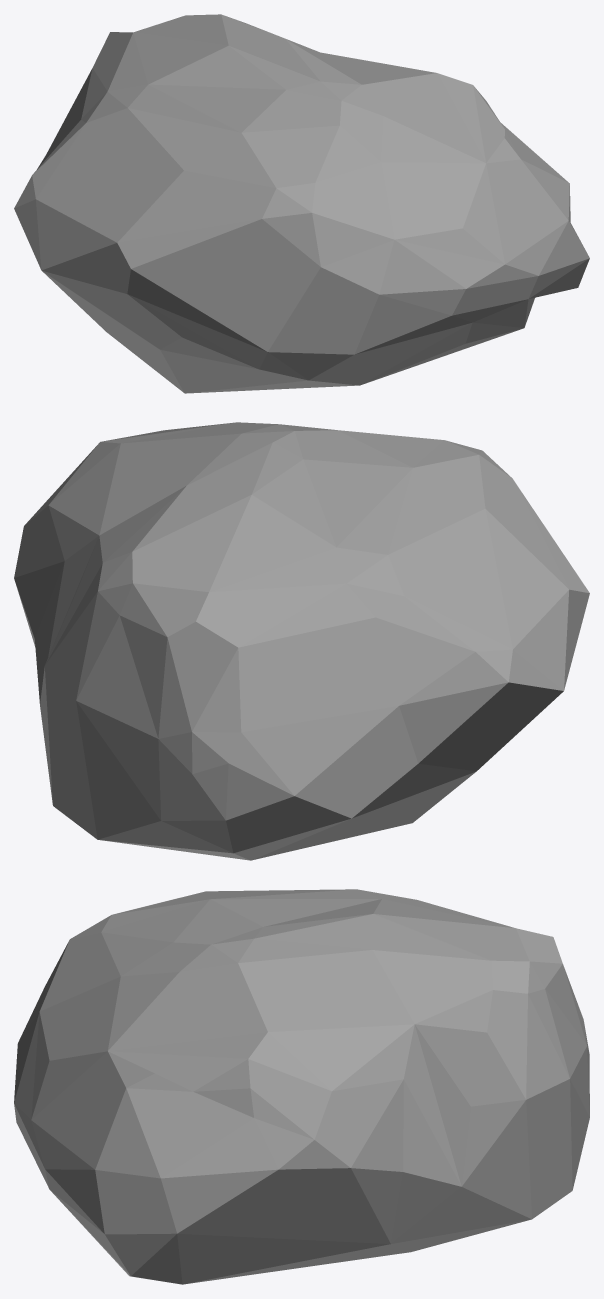
File: Rock_014.fbx
3 renders of one model, top to bottom at view 1: azimuth 30°, elevation 25°; view 2: azimuth 150°, elevation 25°; view 3: azimuth 270°, elevation 25°, orthographic. The views are drawn at different scales.
Parts seen in each view (by area): view 1: Rock_014; view 2: Rock_014; view 3: Rock_014.
Part boxes in pixels (x1,y1,x2,y2): Rock_014: (14,14,589,393); Rock_014: (14,422,589,860); Rock_014: (14,889,589,1284).
Size of the model in its own units: 90.53 by 87.11 by 54.57.
Materials: 1 (1 with a texture image).
